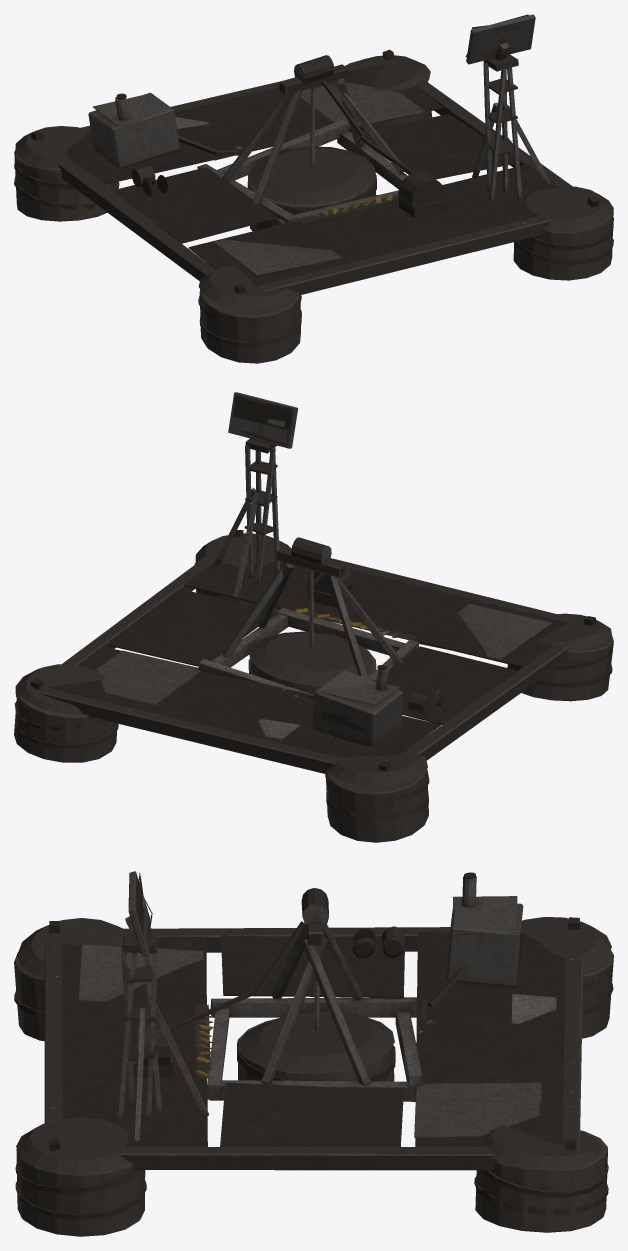
Rendered from chs_deepear_wreck.fbx.
The picture shows the model from 3 angles, top to bottom: view 1: azimuth 30°, elevation 25°; view 2: azimuth 150°, elevation 25°; view 3: azimuth 270°, elevation 25°; orthographic projection. The views are drawn at different scales.
Visible parts, largest first — view 1: base_bar, drum_bar; view 2: base_bar, drum_bar; view 3: base_bar, drum_bar.
Part boxes in pixels (x1,y1,x2,y2): base_bar: (14,14,613,363); drum_bar: (247,87,377,231); base_bar: (14,392,613,842); drum_bar: (248,569,376,694); base_bar: (14,871,613,1236); drum_bar: (237,974,395,1081).
Bounding box in the file's own units: 2203 × 1255 × 2224.
2 materials, 2 textured.
